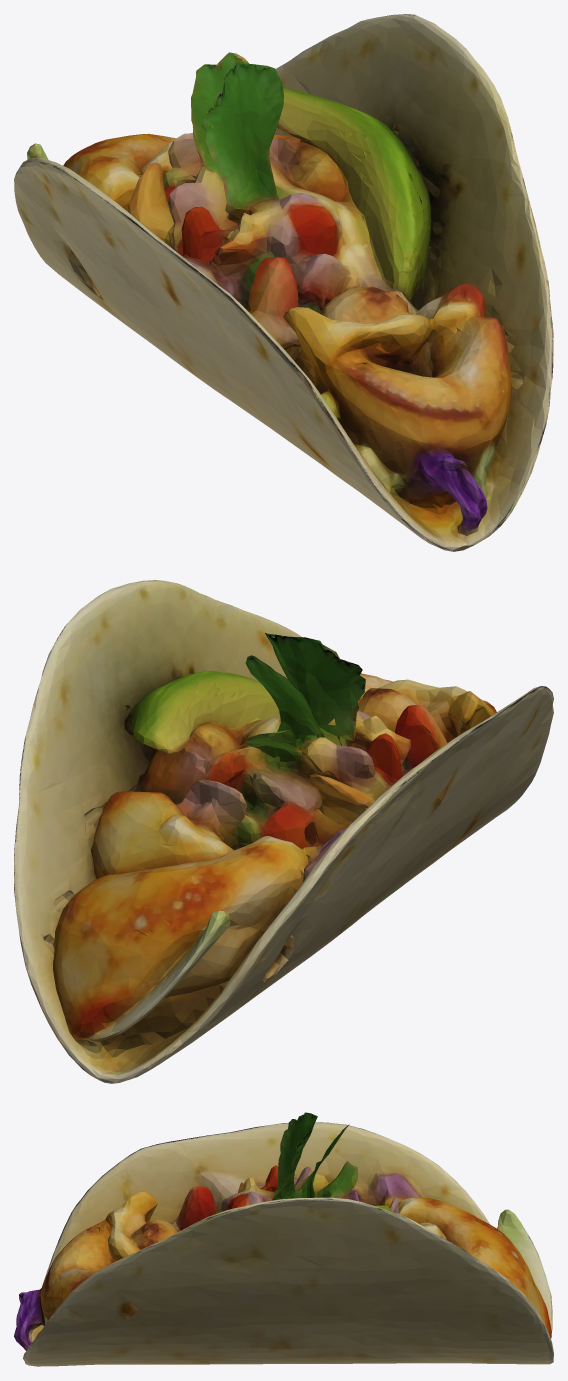
Rendered from p_tacos.glb.
3 views of the same model, one above another, from view 1: azimuth 30°, elevation 25°; view 2: azimuth 150°, elevation 25°; view 3: azimuth 270°, elevation 25° (orthographic). The views are drawn at different scales.
Parts seen in each view (by area): view 1: geometry_0; view 2: geometry_0; view 3: geometry_0.
Boxes of the visible parts, <box> form: geometry_0: <box>14,14,553,551</box>; geometry_0: <box>14,580,553,1083</box>; geometry_0: <box>14,1112,553,1366</box>.
Size of the model in its own units: 0.5405 by 0.4925 by 0.9971.
Materials: 1 (1 with a texture image).
